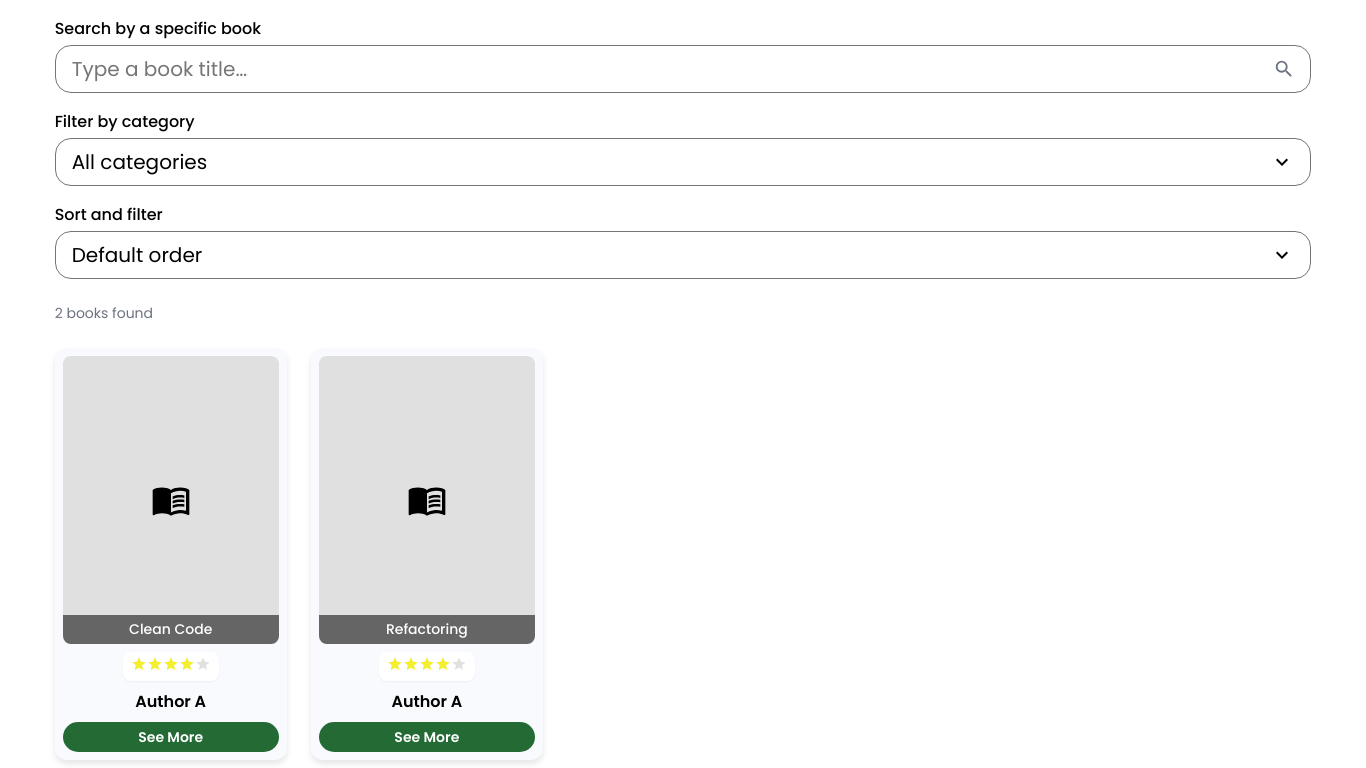
Test: CategoriesPage (integration) › opens the category filter dropdown and lists all categories
Expected: the text "Clean Code" is shown, [63,615,279,644]
Click the button named "filter by category" at (139, 162), box [55,138,1311,186]
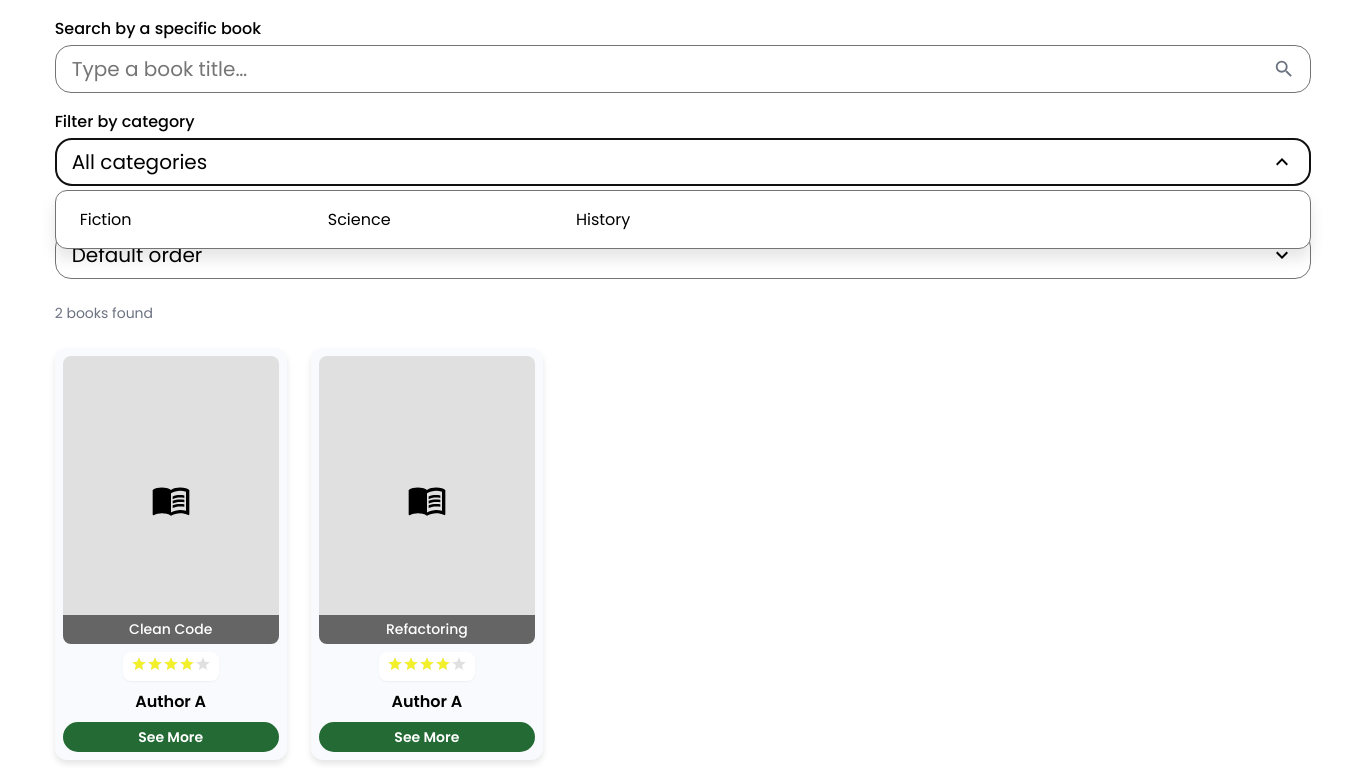
Expected: the checkbox labelled "Fiction" is shown, [80,208,132,231]
Expected: the checkbox labelled "Science" is shown, [328,208,391,231]
Expected: the checkbox labelled "History" is shown, [576,208,630,231]
